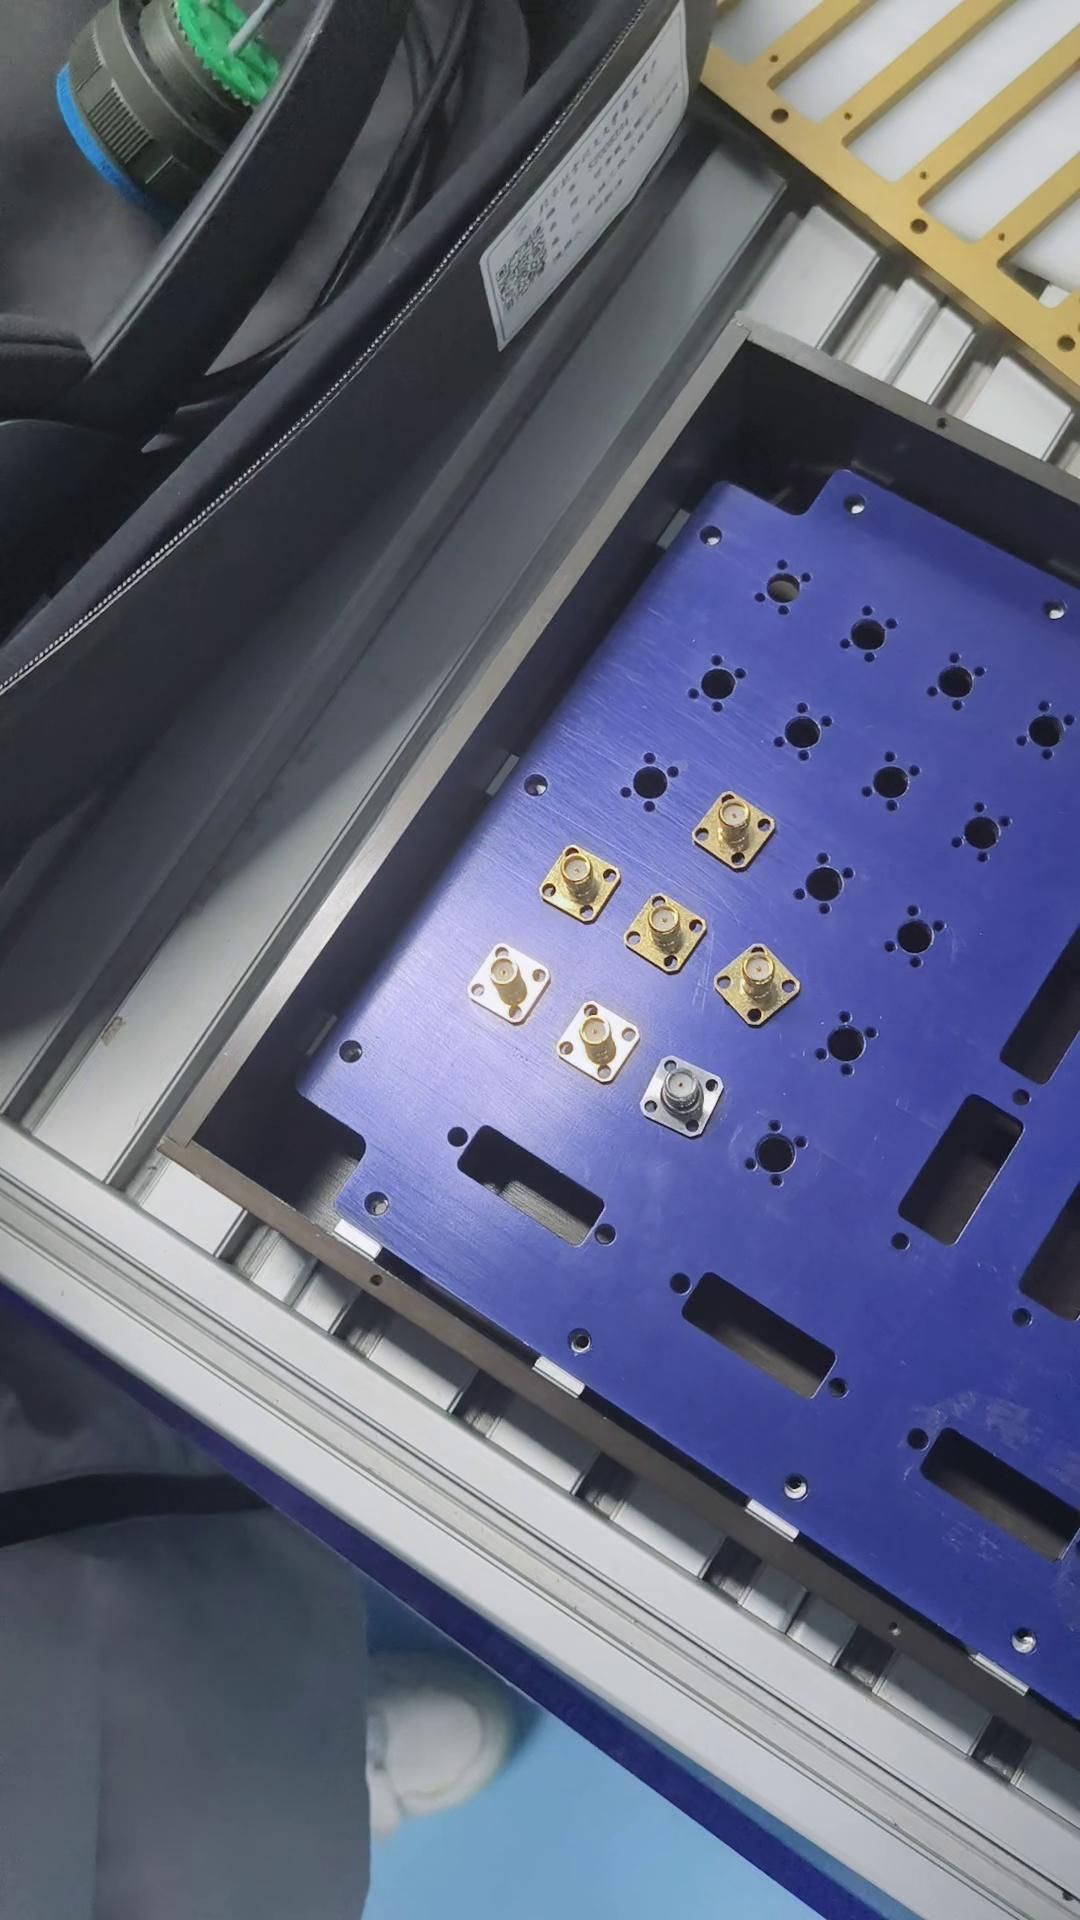SMA: (641, 1052, 727, 1145), (719, 942, 807, 1026), (564, 996, 645, 1084), (632, 886, 711, 976), (545, 840, 625, 924), (694, 793, 779, 872), (471, 940, 549, 1026)
